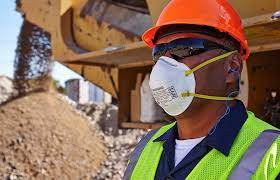Helmet: (139, 1, 261, 44)
Jacket: (146, 127, 280, 180)
Mask: (148, 61, 209, 108)
